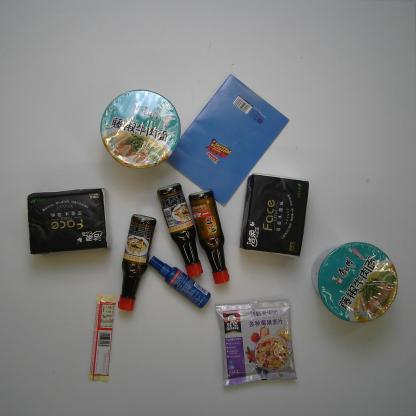Chocolate: (84, 293, 119, 387)
Instant Drink: (212, 298, 298, 390)
Instant Noodles: (310, 241, 398, 325), (99, 88, 184, 170)
Personal Hygiene: (144, 253, 216, 311)
Seasoner: (156, 181, 212, 281), (187, 186, 234, 286), (114, 212, 156, 312)
Stationery: (163, 71, 290, 208)
Tissue: (24, 184, 112, 256), (238, 173, 310, 258)
